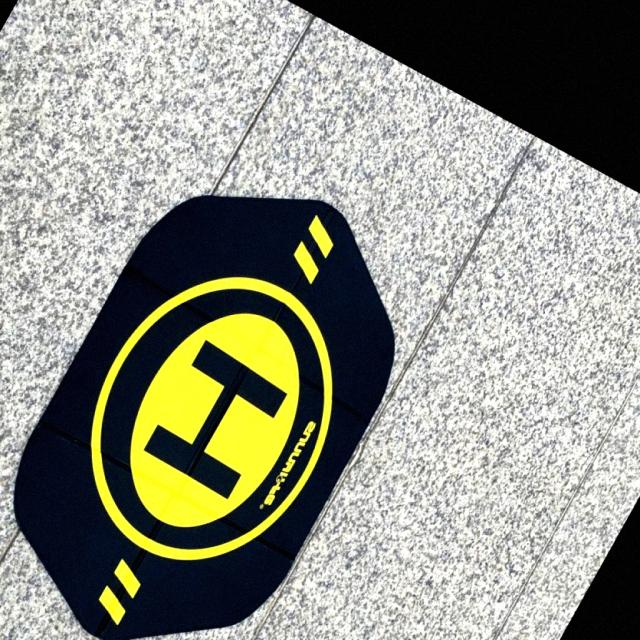helipad: (86, 270, 338, 565)
